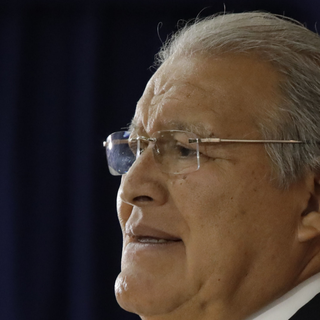eye: (160, 140, 210, 167)
